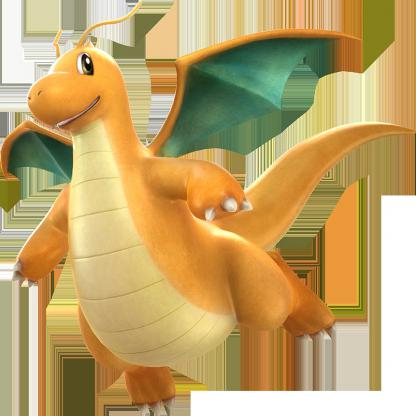Dragonite: (25, 14, 391, 410)
